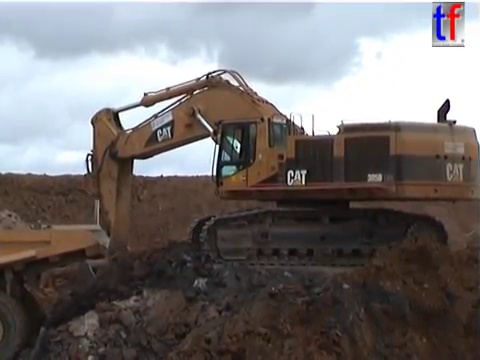excavator: (61, 65, 480, 315)
truck: (1, 219, 114, 360)
